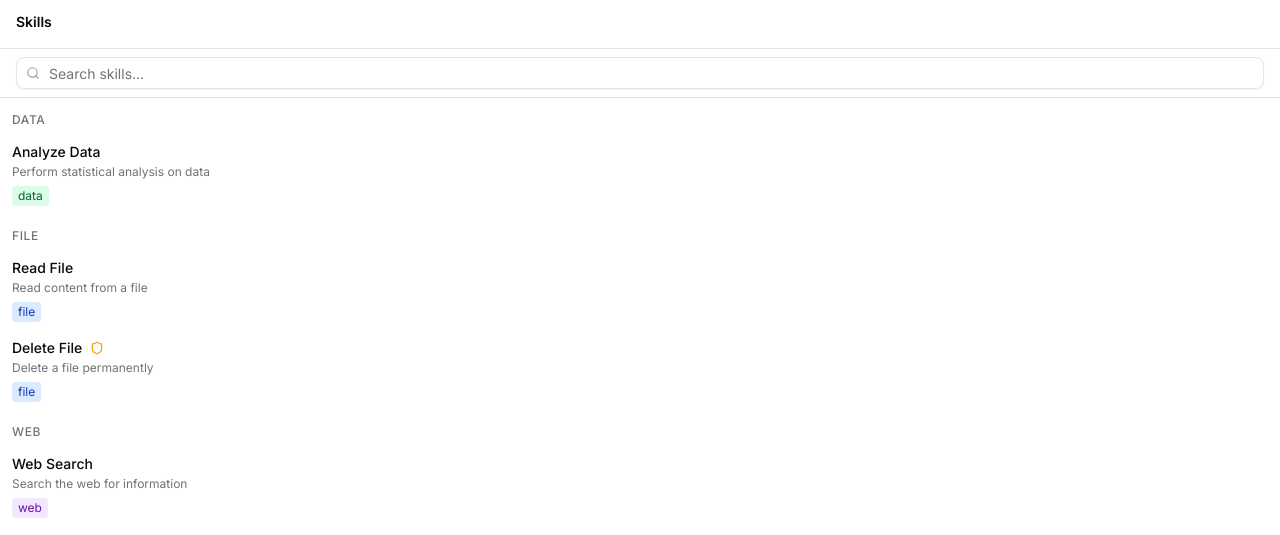
Test: SkillsPanel Component › Test 4: Filters skills by search query › should filter skills by name
Expected: the text "Read File" is shown, x1=12 y1=258 x2=73 y2=278
Type in search
Type "delete" into the field with placeholder "Search skills...".
click(640, 73); type("delete")  # box x1=16 y1=57 x2=1264 y2=89
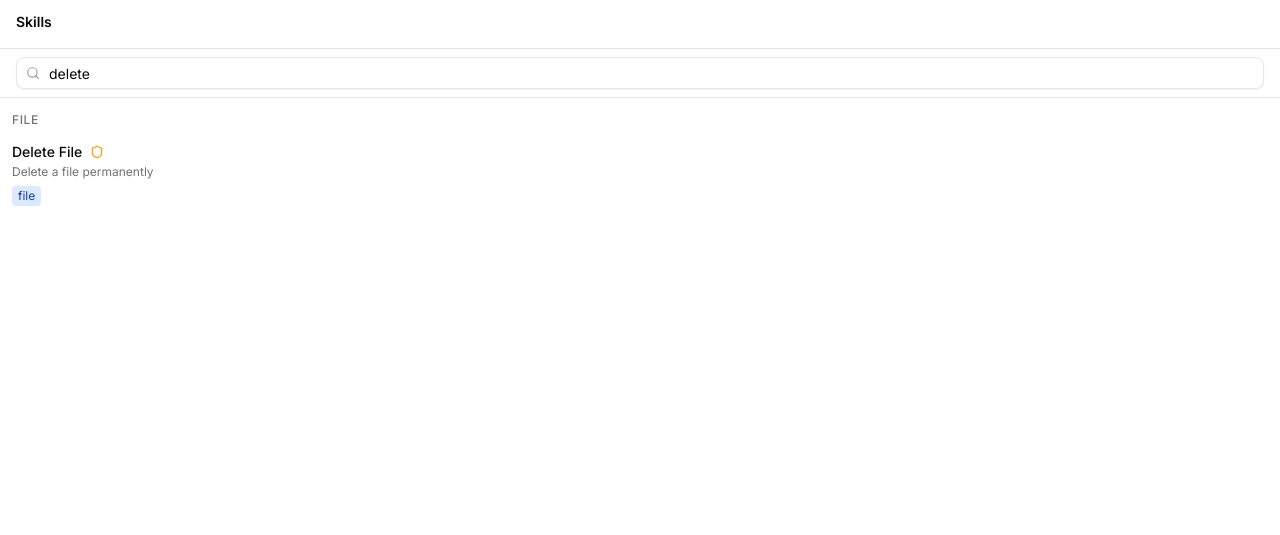
Expected: the text "Delete File" is shown, x1=12 y1=142 x2=82 y2=162
Result: the text "Read File" is gone
